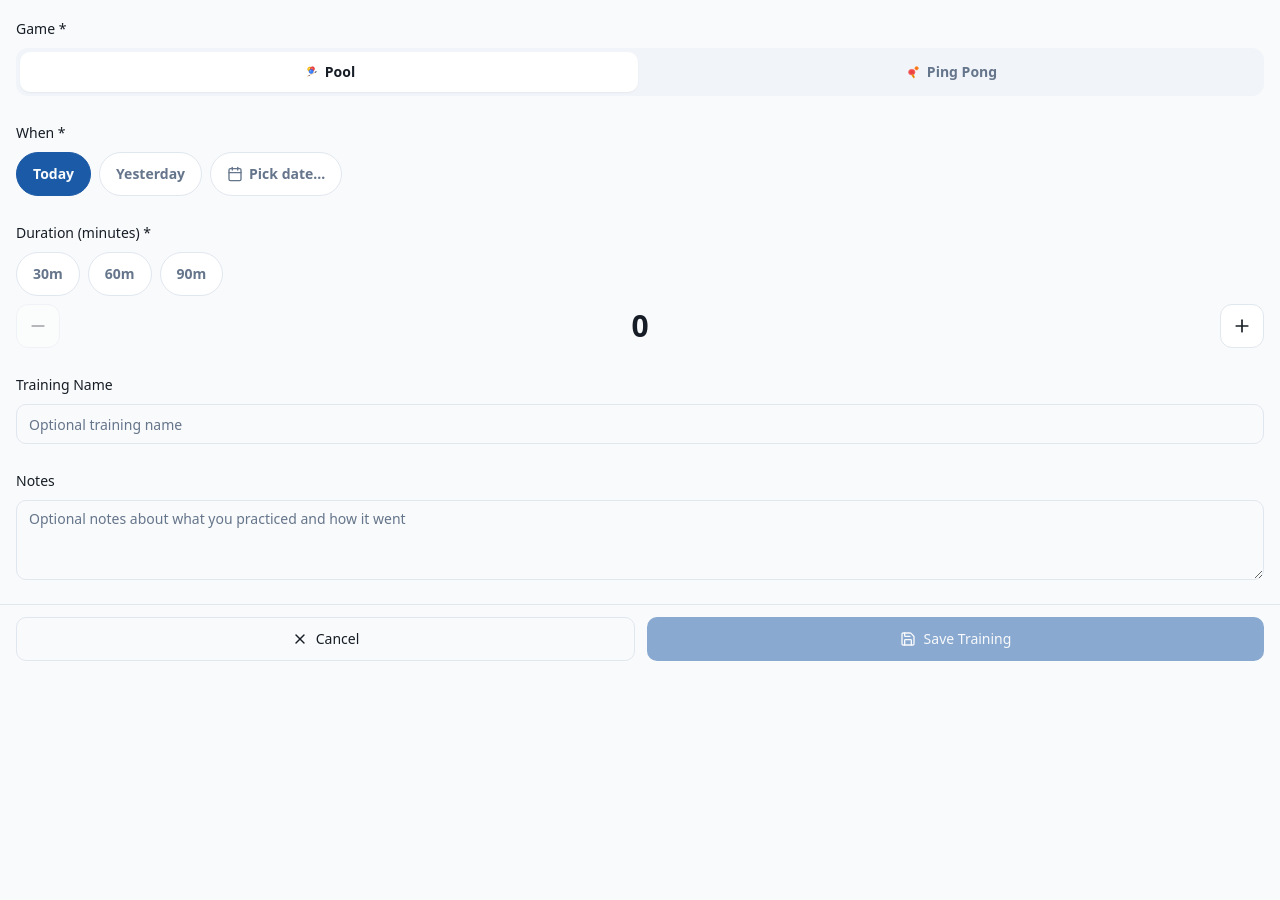
Training forms › sets duration via quick chips and adjusts it with the stepper
The image size is (1280, 900).
Click the button "30m".
click(48, 274)  # box [16,252,80,296]
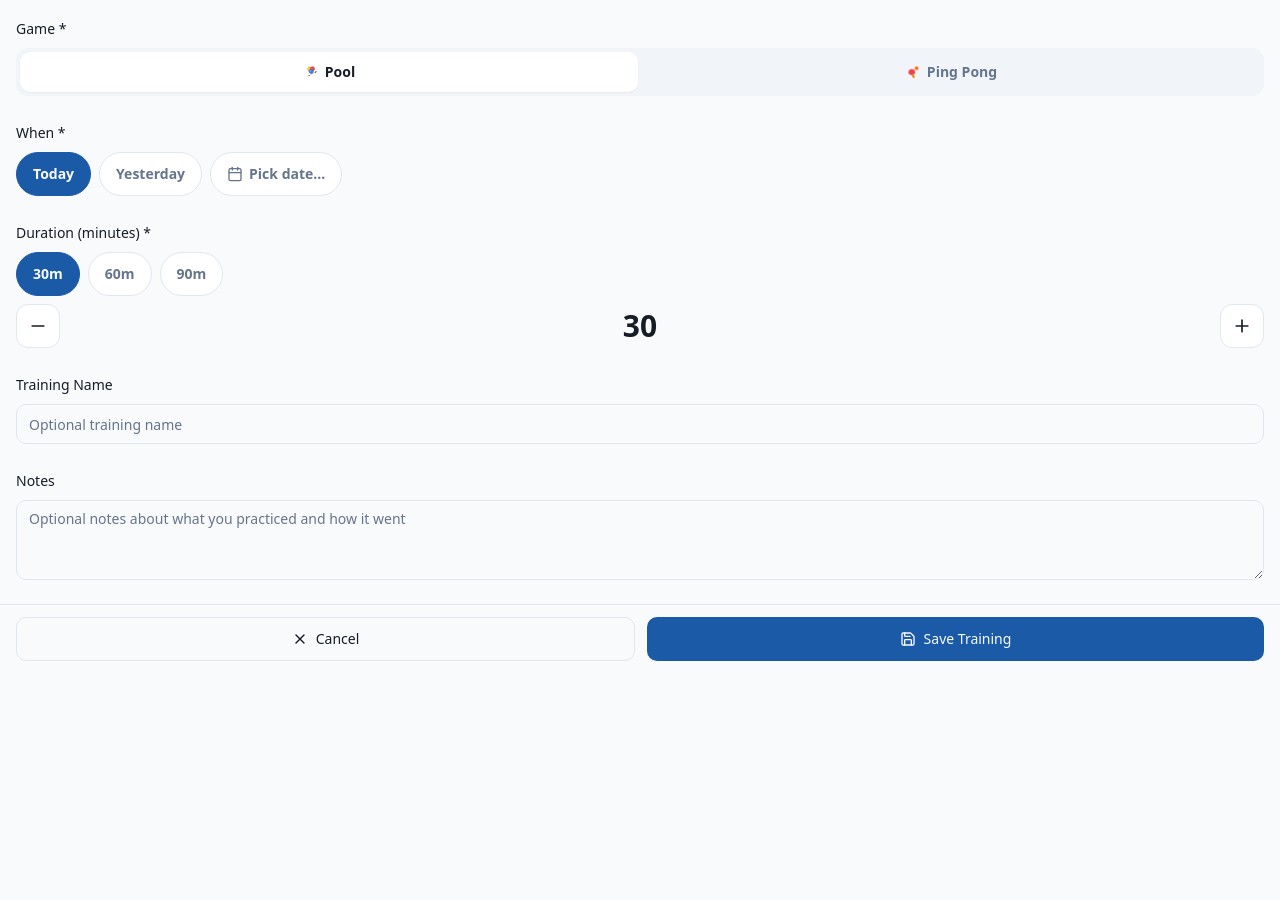
Result: the text named "Duration in minutes" reads "30" at [623,305,657,346]
Click the button named "Increase duration in minutes".
click(1242, 326)  # box [1220,304,1264,348]
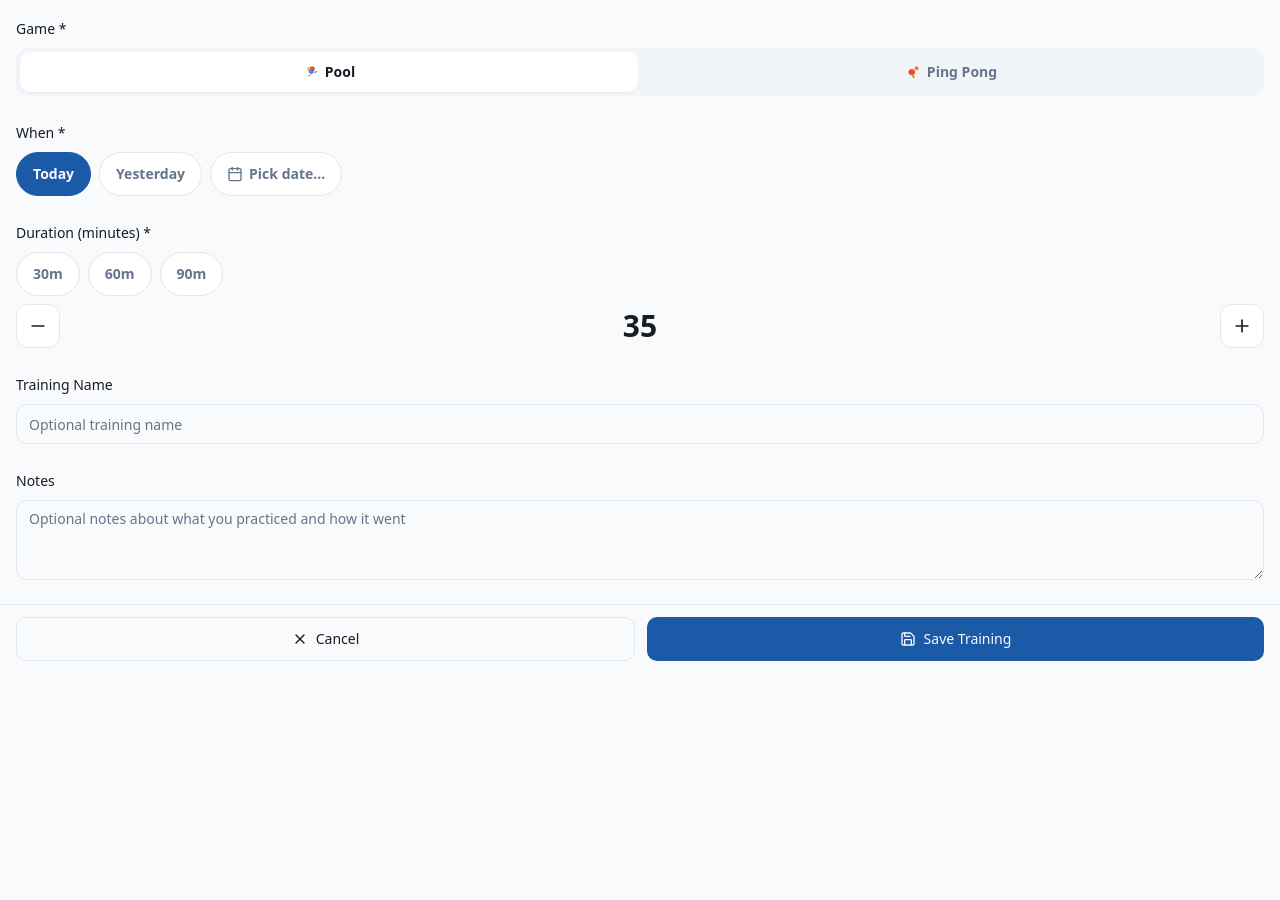
Click the button named "Increase duration in minutes".
click(1242, 326)  # box [1220,304,1264,348]
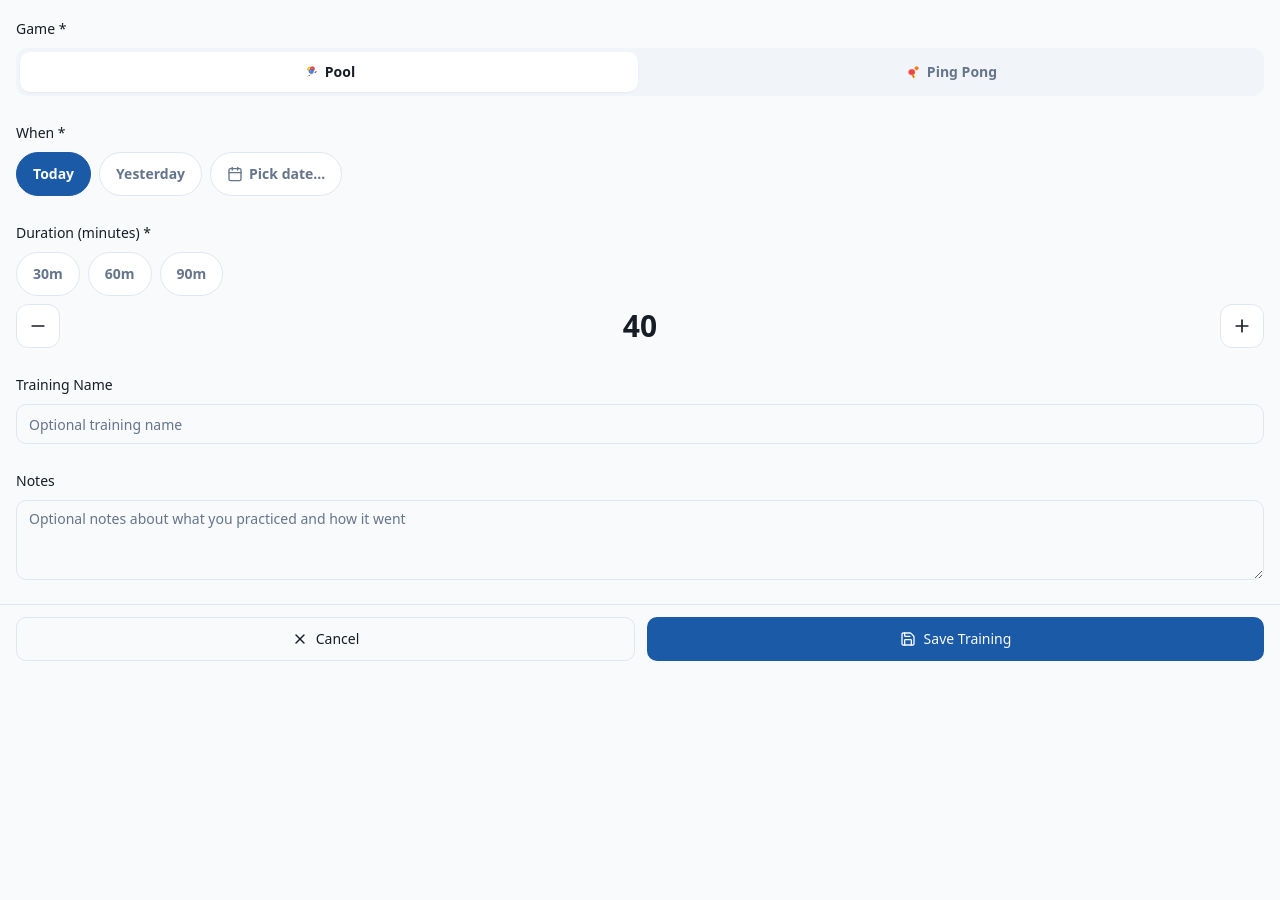
Result: the text named "Duration in minutes" reads "40" at [623,305,657,346]
Click the button named "Decrease duration in minutes".
click(38, 326)  # box [16,304,60,348]
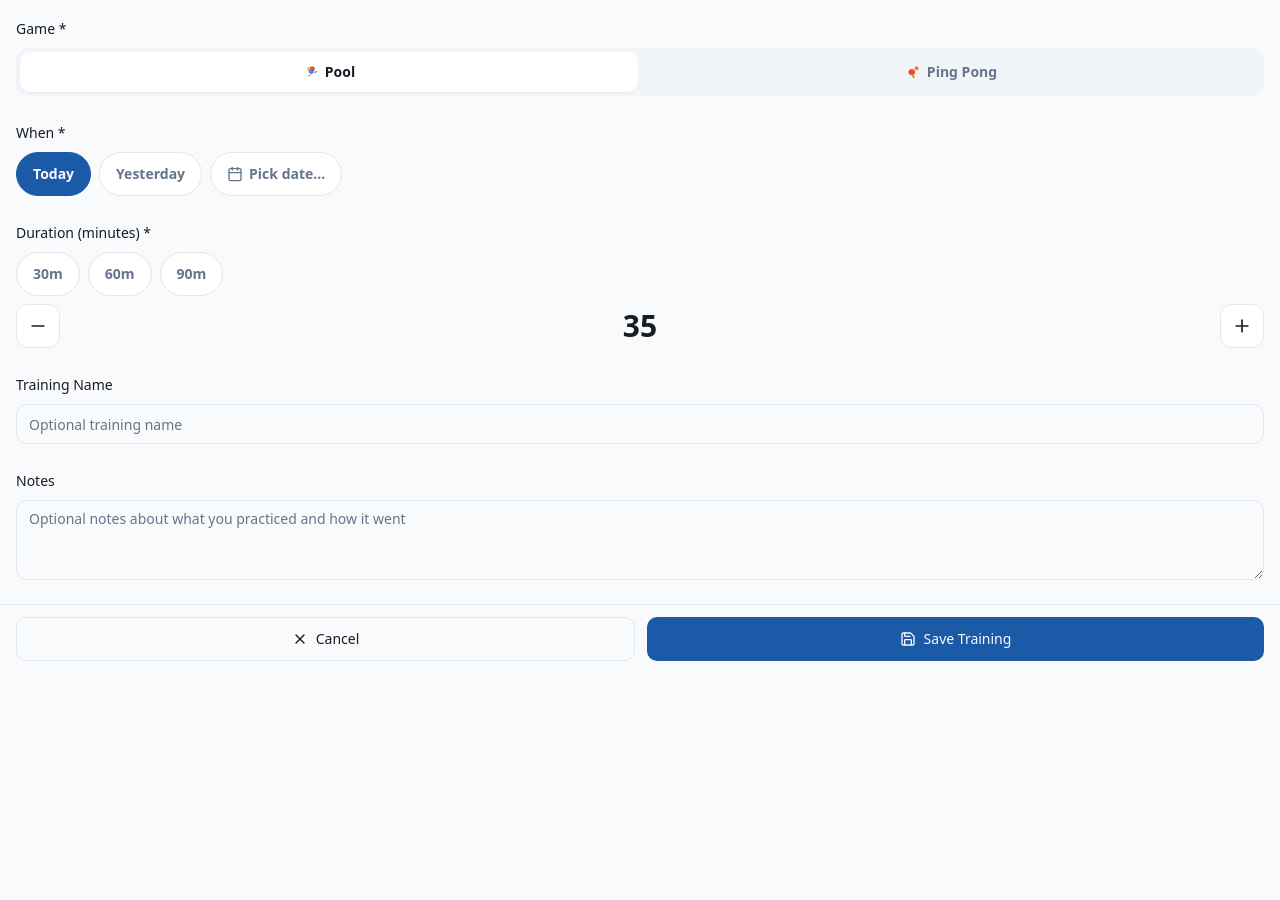
Result: the text named "Duration in minutes" reads "35" at [623,305,657,346]
